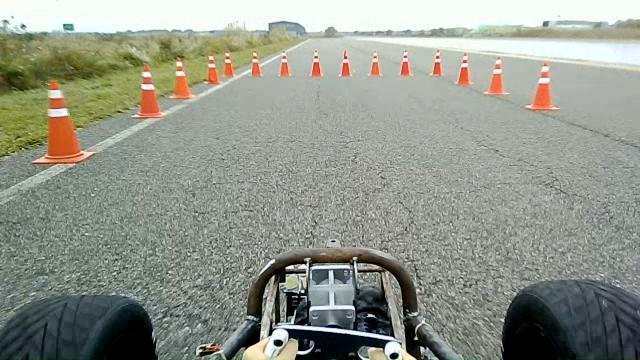red cone: (31, 79, 96, 164), (132, 62, 166, 118), (525, 61, 560, 111), (169, 55, 195, 99), (485, 56, 511, 97), (455, 51, 473, 86), (203, 54, 221, 84), (308, 48, 323, 77), (338, 49, 353, 77), (277, 50, 292, 78), (399, 48, 413, 76), (430, 49, 444, 77), (368, 49, 382, 77), (249, 50, 263, 77), (223, 49, 236, 77)
